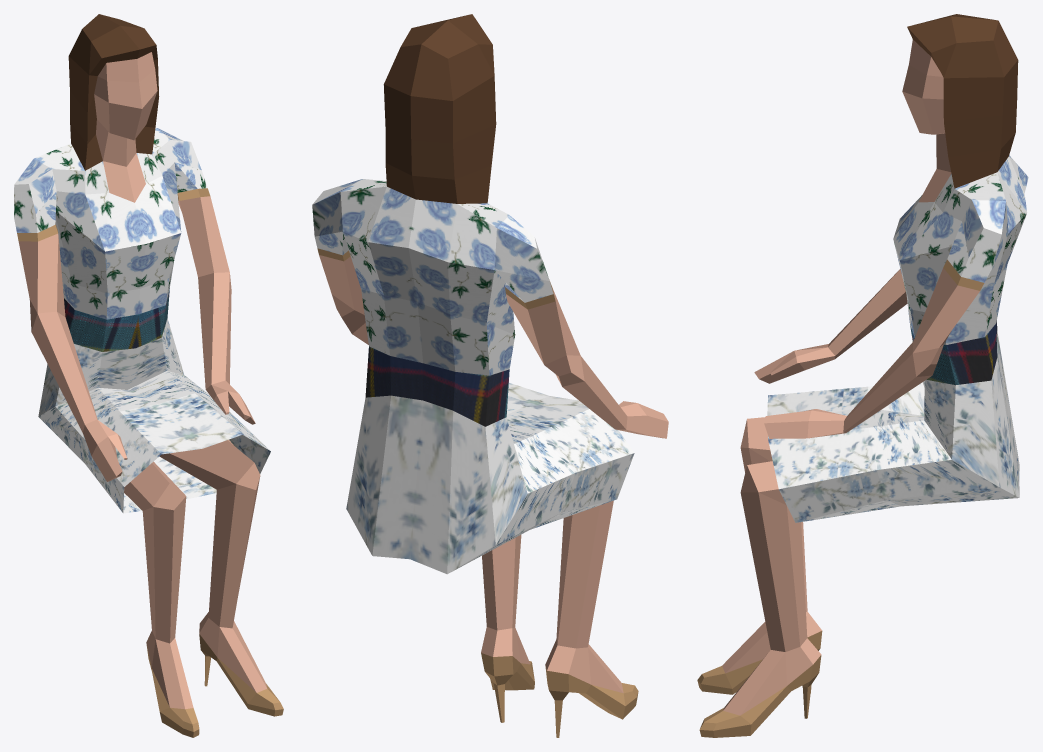
Rendered from SpringWomanC.009.glb.
3 views of the same model, side by side, from view 1: azimuth 30°, elevation 25°; view 2: azimuth 150°, elevation 25°; view 3: azimuth 270°, elevation 25° (orthographic). The views are drawn at different scales.
Visible parts, largest first — view 1: SpringWomanC.010; view 2: SpringWomanC.010; view 3: SpringWomanC.010.
Part boxes in pixels (x1,y1,x2,y2): SpringWomanC.010: (14, 14, 283, 737); SpringWomanC.010: (312, 14, 668, 737); SpringWomanC.010: (697, 14, 1028, 737).
Bounding box in the file's own units: 0.449 × 1.34 × 0.5812.
1 material, 1 textured.
